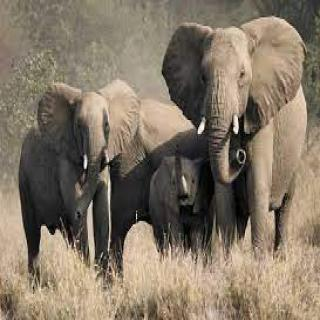Elephant: (160, 12, 312, 271), (13, 78, 143, 287), (145, 144, 216, 268)
